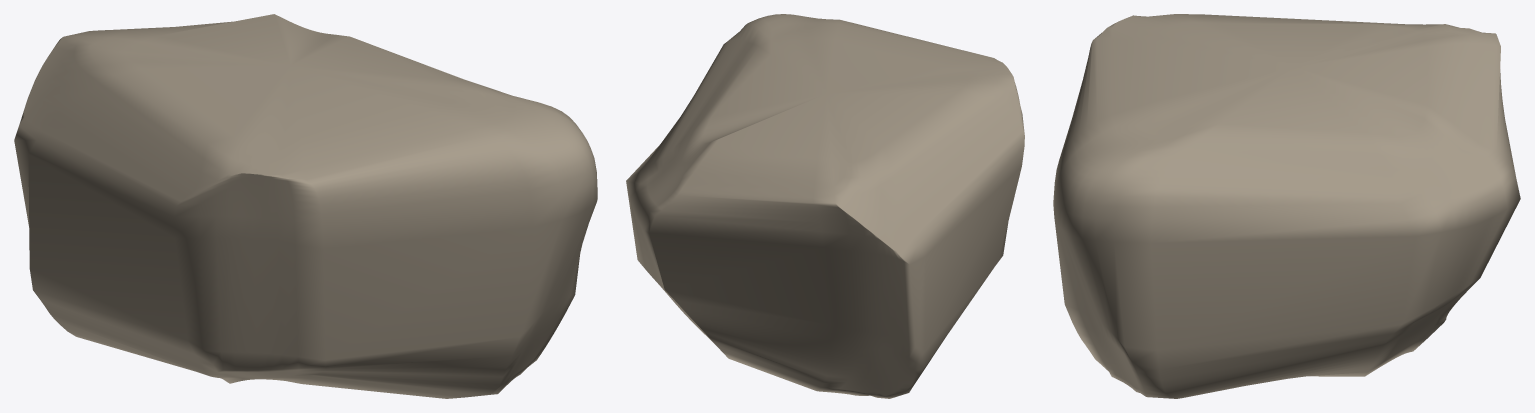
File: landscape.rock.gritstone_03.glb
The picture shows the model from 3 angles, left to right: view 1: azimuth 30°, elevation 25°; view 2: azimuth 150°, elevation 25°; view 3: azimuth 270°, elevation 25°; orthographic projection. The views are drawn at different scales.
Visible parts, largest first — view 1: main__stone_a98; view 2: main__stone_a98; view 3: main__stone_a98.
Boxes of the visible parts, <box> form: main__stone_a98: <box>14,14,597,398</box>; main__stone_a98: <box>626,14,1024,398</box>; main__stone_a98: <box>1053,14,1520,398</box>.
Bounding box in the file's own units: 0.894 × 0.6273 × 0.9927.
